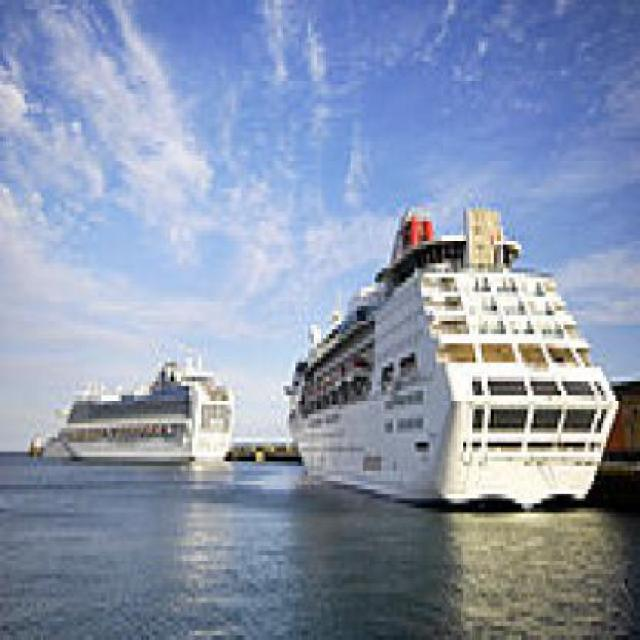cruise: (278, 185, 622, 523), (46, 349, 245, 476)
